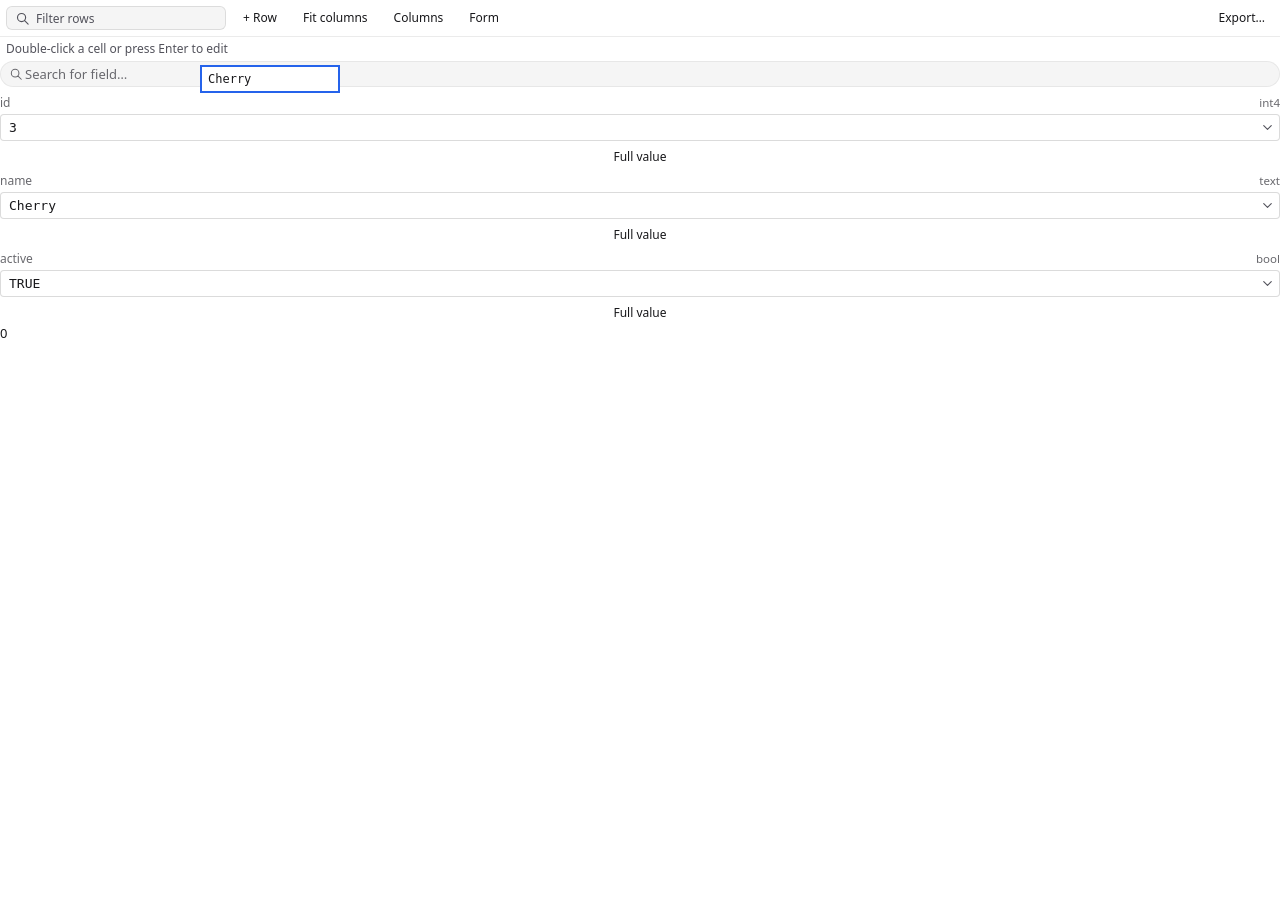
Test case: resolves an unqualified result and stages the resolved schema in the commit preview
This screenshot has width=1280, height=900.
Expected: the button "+ Row" is enabled, [234,6,286,30]
Replace the text in the field named "Edit name" with "Unqualified edit" at (270, 79), box [200,65,340,93]
Then press Enter
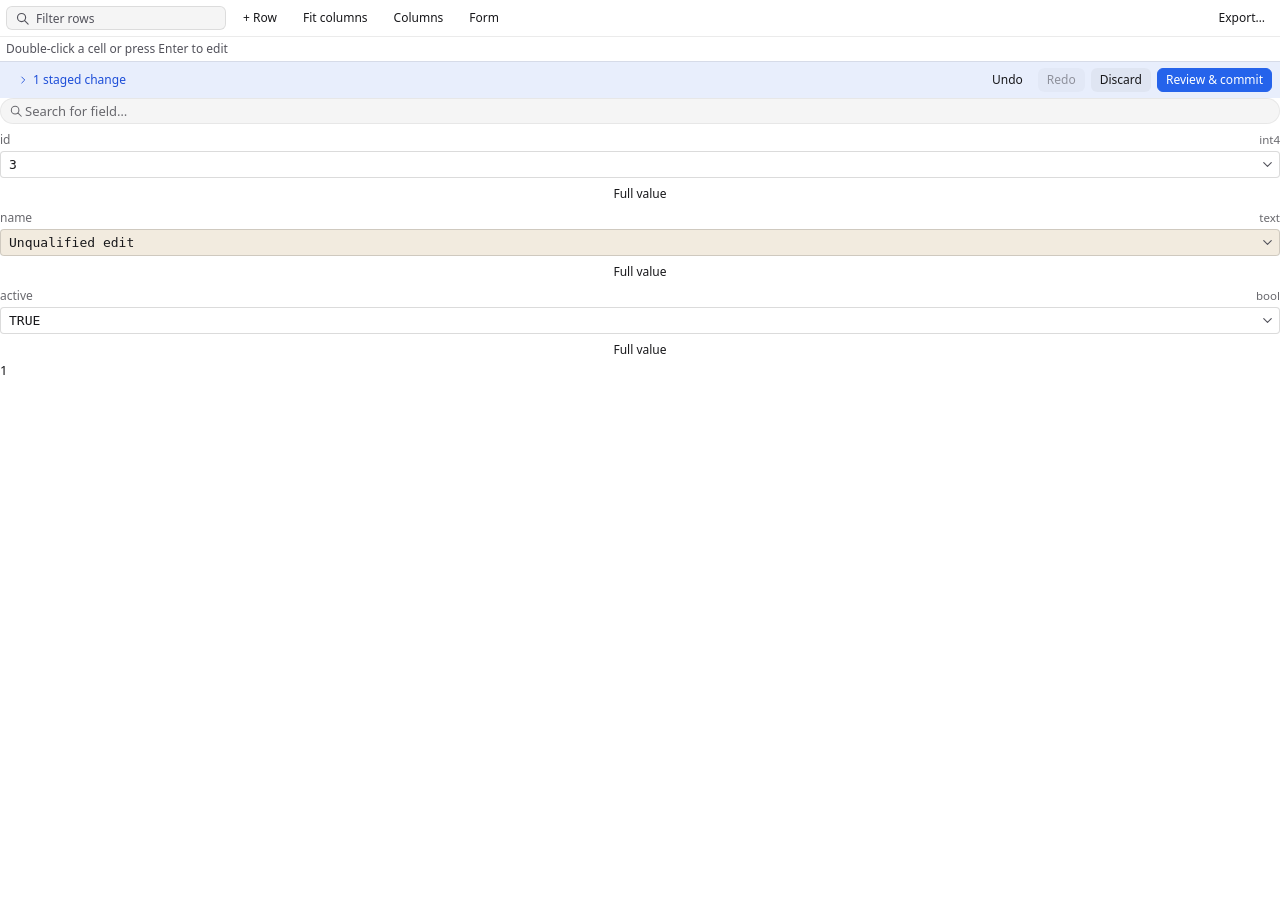
Expected: the text named "Protected edits" reads "1", [0,361,7,379]
Click the button "Review & commit" at (1214, 80), box [1157,68,1272,92]
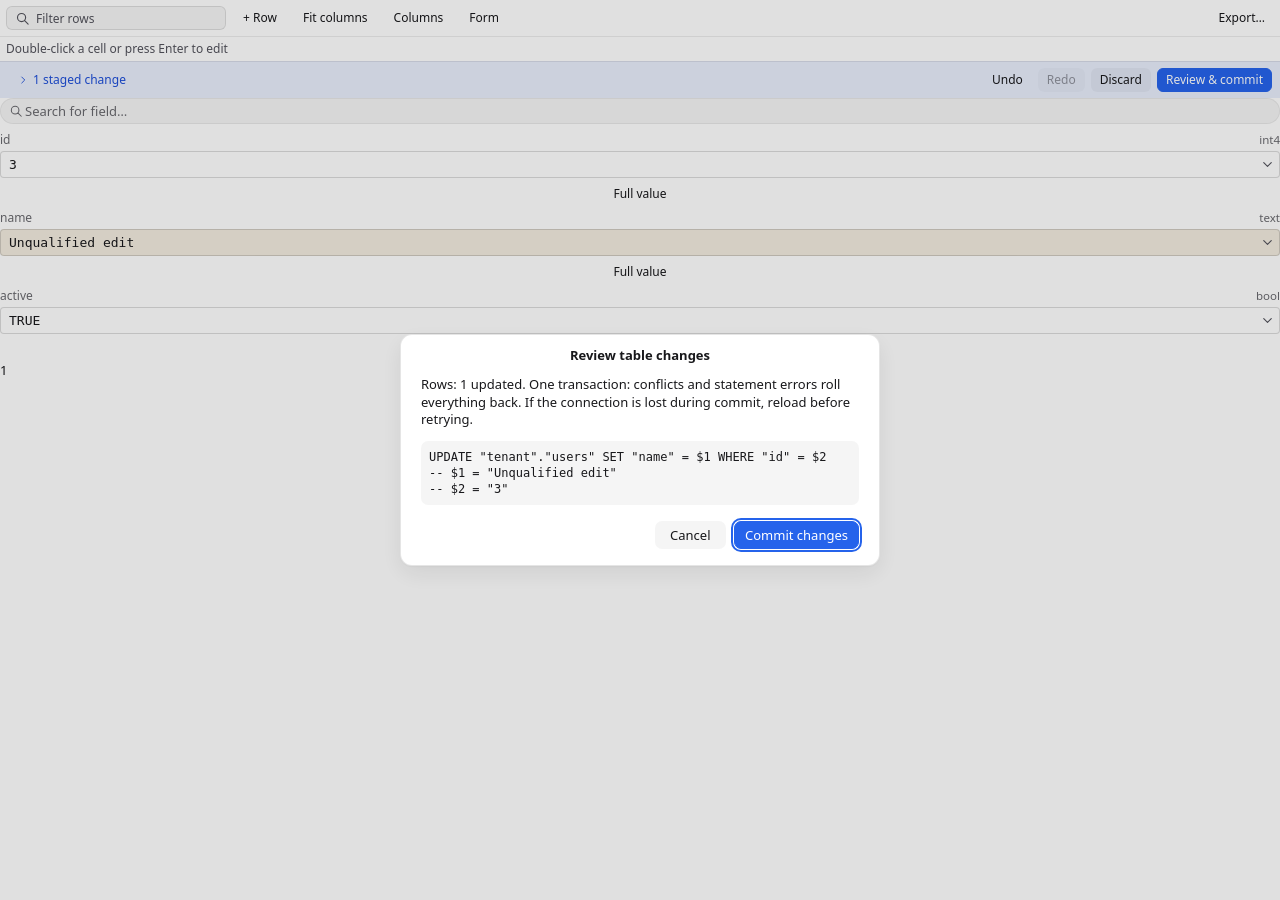
Expected: the text named "SQL to commit" shows "UPDATE \"tenant\".\"users\"", [429,450,826,496]
